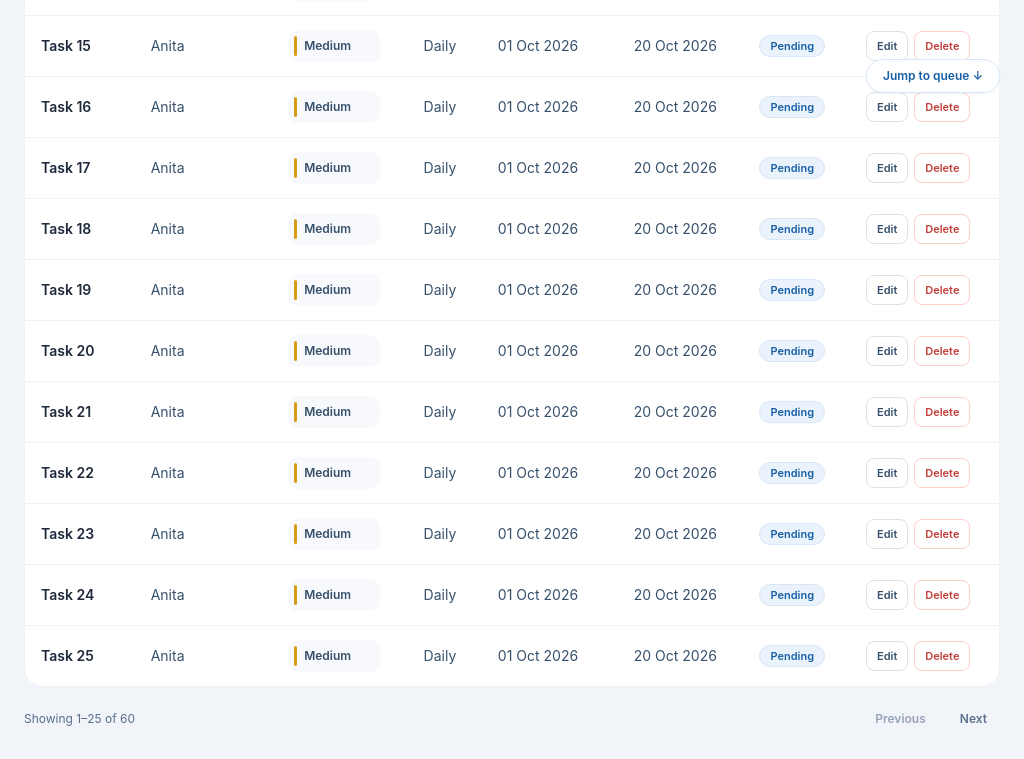
Assignment Queue › paginates long lists
The width and height of the screenshot is (1024, 759).
(page scrolled)
Expected: the text "Showing 1–25 of 60" is shown, x1=24 y1=711 x2=135 y2=727
Step 1. Click the button "Next" → (973, 719), box x1=947 y1=703 x2=1000 y2=735
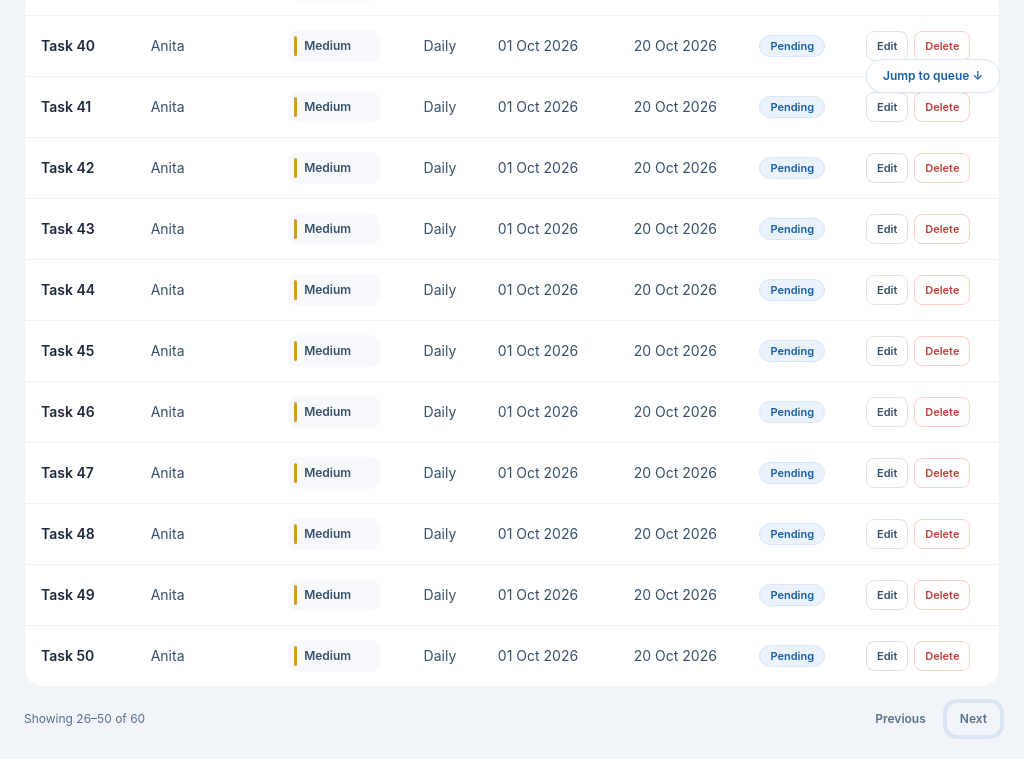
Expected: the text "Showing 26–50 of 60" is shown, x1=24 y1=711 x2=145 y2=727
